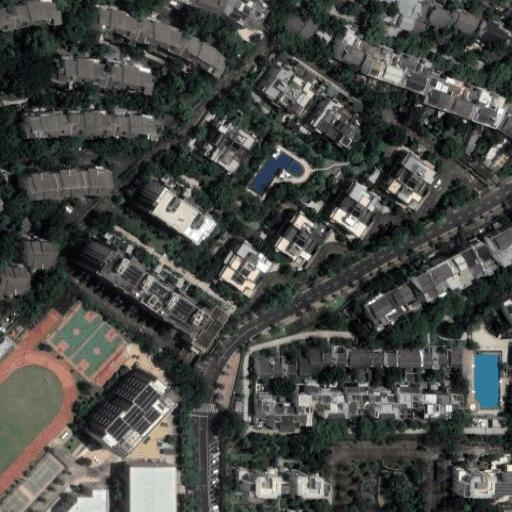building: (84, 2, 228, 81), (70, 232, 185, 321), (89, 364, 171, 447), (56, 55, 155, 97), (134, 179, 202, 239), (379, 149, 441, 211), (217, 237, 278, 298), (24, 113, 159, 140), (328, 180, 387, 240), (199, 115, 257, 174), (273, 210, 330, 269), (306, 96, 365, 151), (263, 63, 320, 119), (25, 165, 114, 200), (184, 302, 232, 358), (253, 468, 333, 499), (298, 380, 345, 429), (398, 382, 462, 417), (129, 464, 175, 512), (0, 0, 64, 32), (328, 25, 373, 69), (472, 132, 512, 177), (422, 69, 462, 113), (386, 277, 427, 319), (470, 87, 508, 130), (381, 47, 419, 90), (427, 258, 465, 299), (450, 247, 488, 287), (364, 291, 401, 330), (449, 79, 483, 121), (257, 400, 298, 433), (59, 486, 109, 512), (361, 41, 393, 80), (473, 239, 503, 276), (407, 57, 437, 94), (296, 13, 328, 47), (26, 241, 62, 271), (464, 476, 512, 498), (448, 7, 481, 38), (478, 20, 512, 50), (412, 269, 441, 304), (490, 289, 512, 335), (423, 2, 455, 32), (0, 267, 32, 297), (345, 386, 370, 417), (370, 390, 398, 417), (397, 13, 427, 38), (349, 345, 381, 368), (281, 8, 308, 35), (375, 3, 403, 29), (310, 345, 333, 375), (431, 345, 461, 368), (495, 100, 512, 139), (399, 348, 431, 368), (256, 357, 284, 379), (294, 64, 319, 84), (313, 28, 337, 48), (411, 0, 431, 22), (284, 359, 310, 375), (394, 0, 418, 16), (333, 345, 349, 367), (381, 350, 399, 368), (354, 368, 370, 386), (323, 86, 340, 102), (473, 18, 486, 37), (0, 339, 12, 359), (417, 368, 433, 382), (437, 462, 445, 484), (442, 368, 454, 382), (257, 385, 268, 400), (278, 169, 289, 180)
